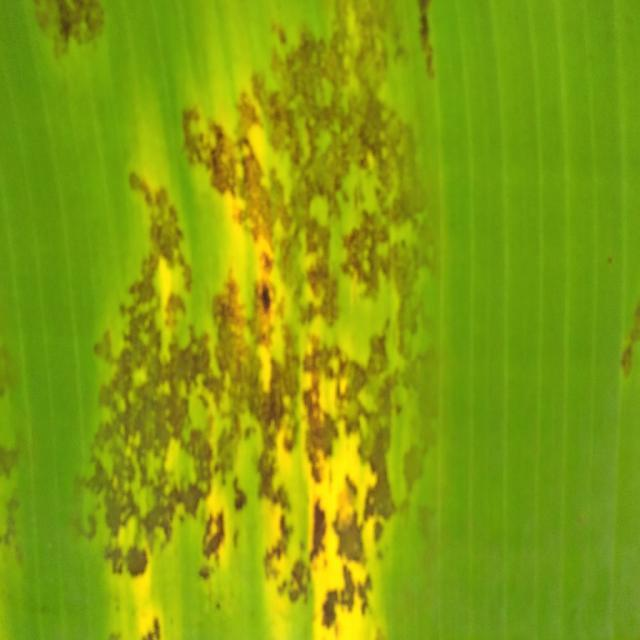Early_rust: (30, 0, 458, 640)
